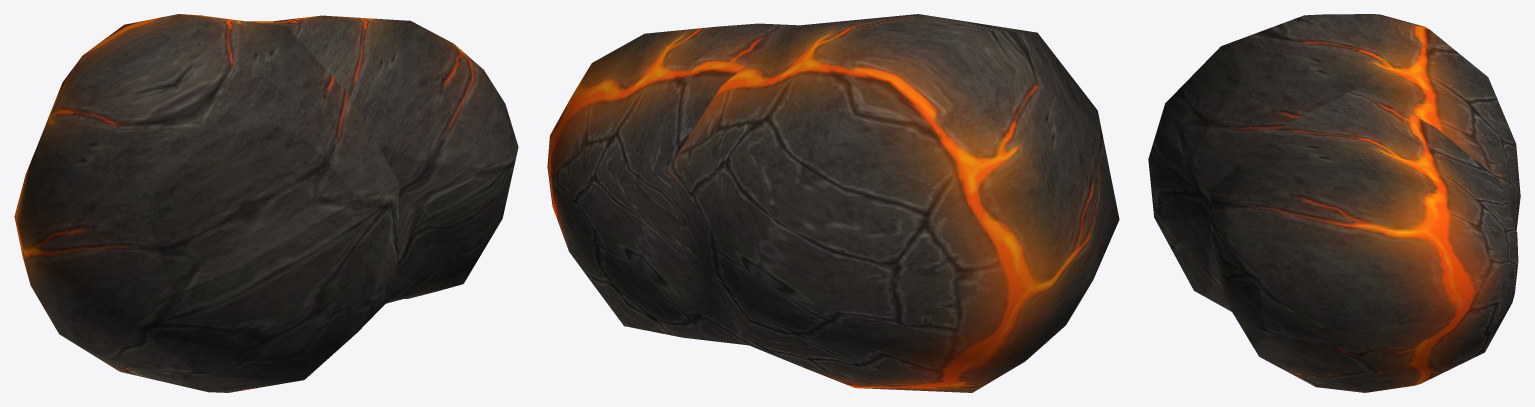
File: stone_01.obj
The picture shows the model from 3 angles, left to right: view 1: azimuth 30°, elevation 25°; view 2: azimuth 150°, elevation 25°; view 3: azimuth 270°, elevation 25°; orthographic projection. The views are drawn at different scales.
Visible parts, largest first — view 1: (null); view 2: (null); view 3: (null).
Part boxes in pixels (box(x1,y1,x2,y2)): (null): box(14, 14, 518, 392); (null): box(547, 14, 1119, 392); (null): box(1148, 14, 1520, 392).
Size of the model in its own units: 3.69 by 2.58 by 2.88.
